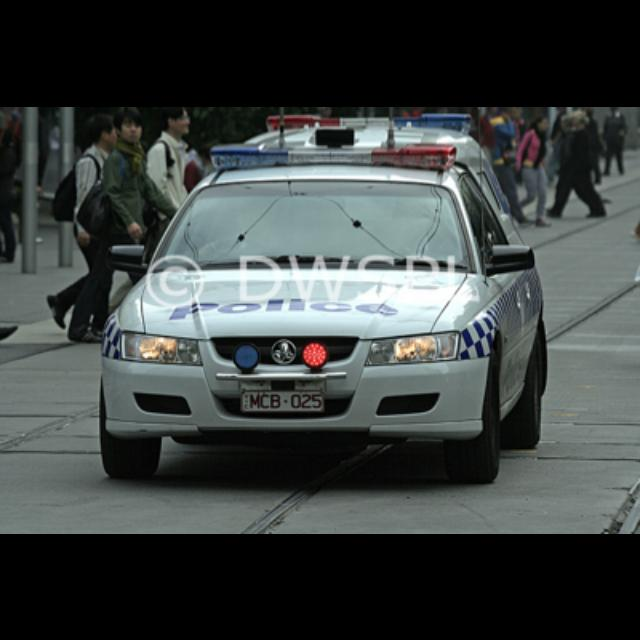carPlate: (242, 390, 324, 412)
